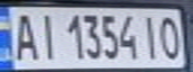1: (60, 10, 84, 60)
3: (78, 10, 103, 61)
4: (118, 11, 142, 61)
5: (100, 11, 121, 61)
A: (6, 9, 39, 62)
I: (33, 9, 60, 61), (139, 11, 163, 61)
O: (157, 12, 187, 61)
